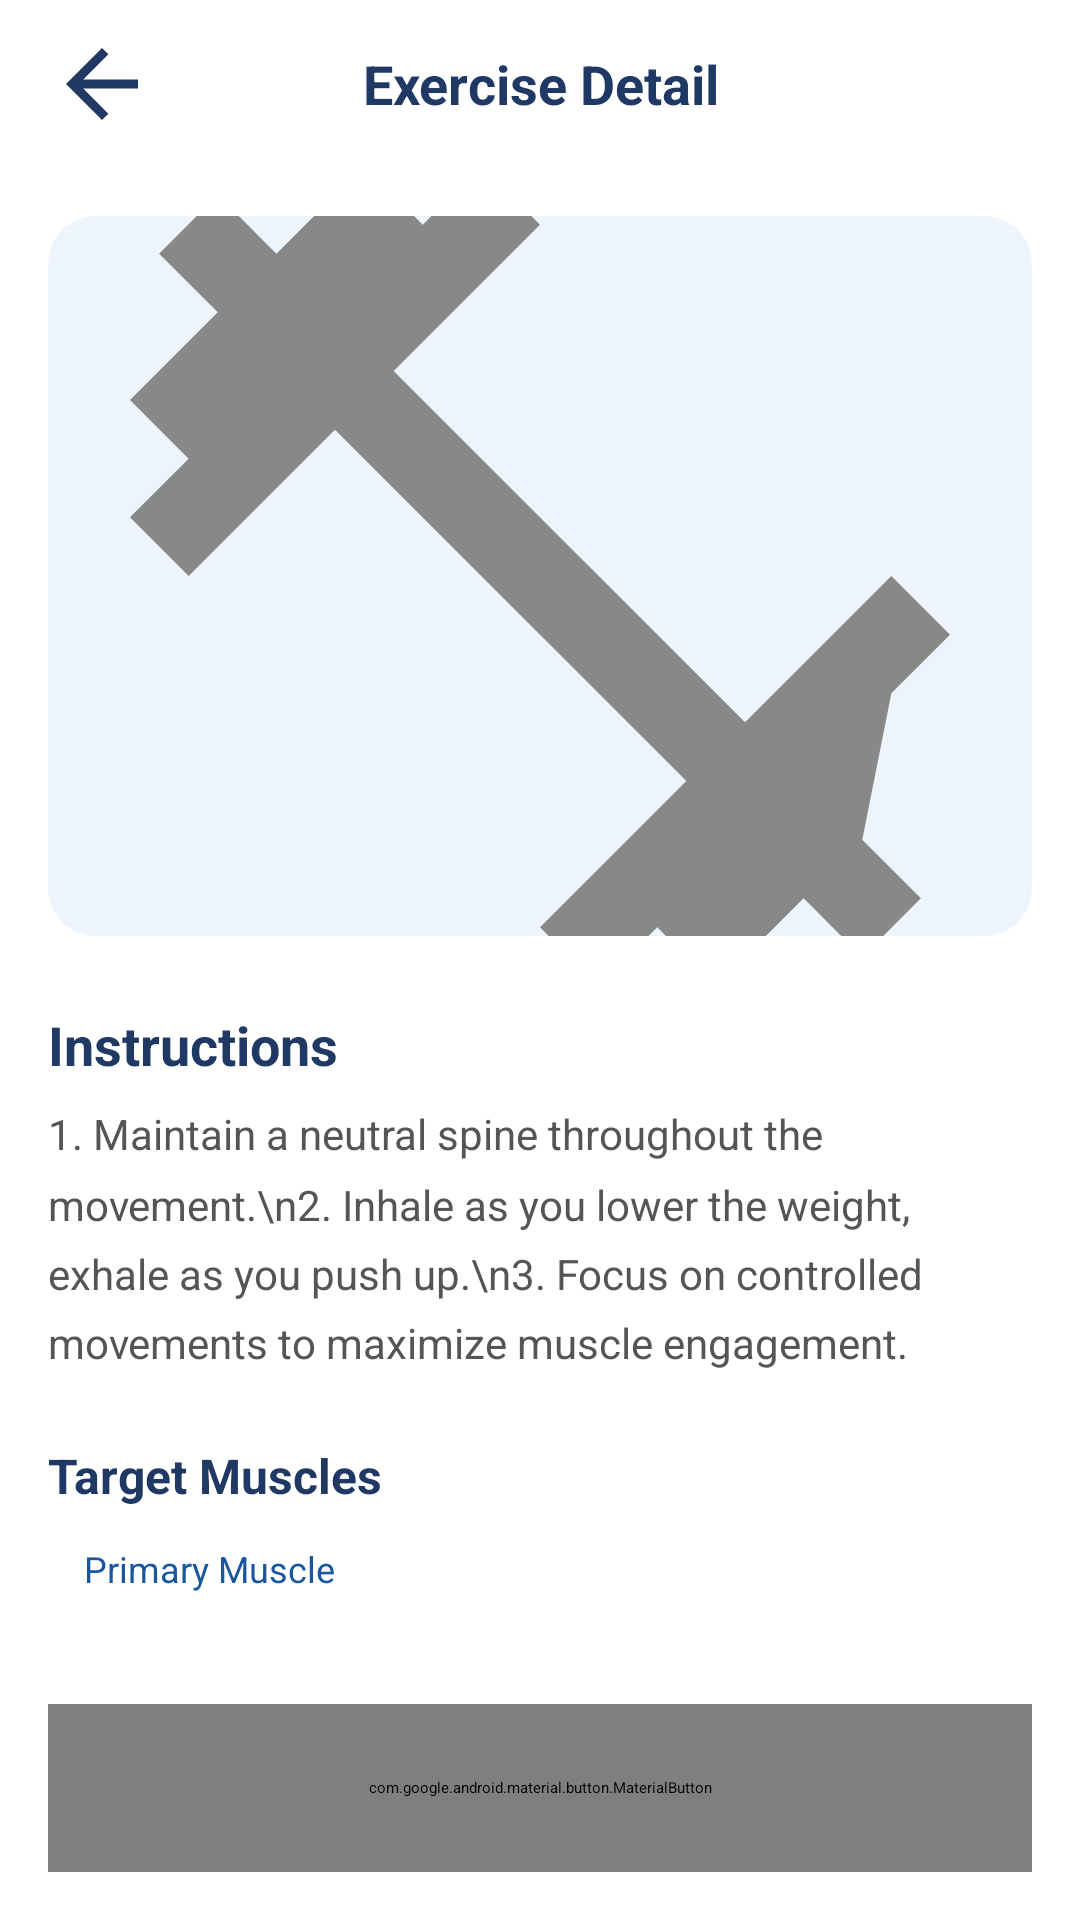

Point at icon controls on the screen. Image size 1080 × 1920, points as point (x, y).
back arrow: point (102, 84)
